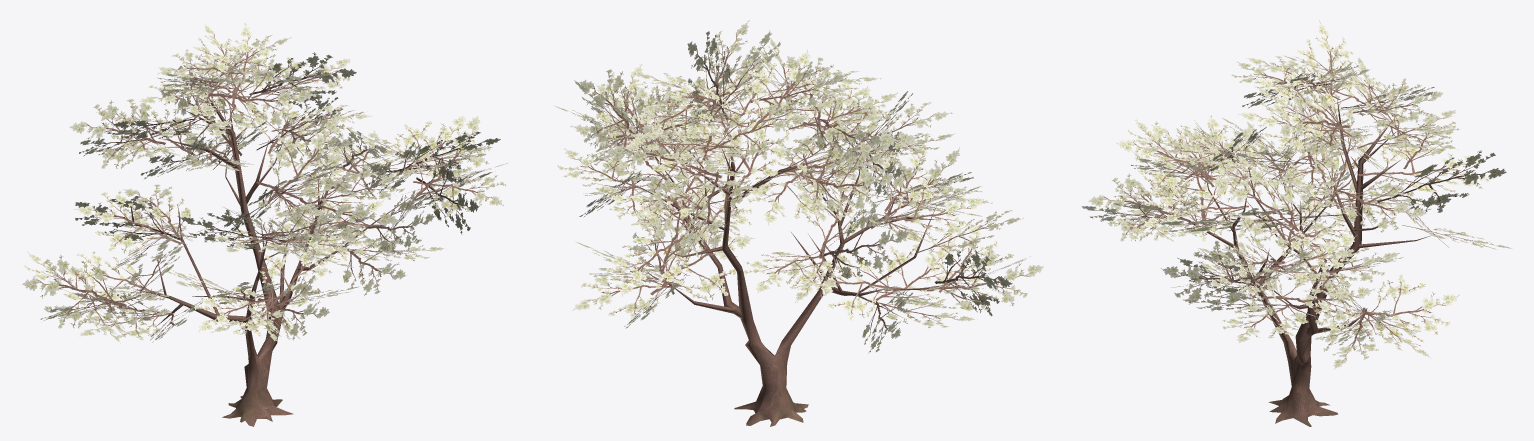
Rendered from shu_yunmeng_04.FBX.
3 renders of one model, left to right at view 1: azimuth 30°, elevation 25°; view 2: azimuth 150°, elevation 25°; view 3: azimuth 270°, elevation 25°, orthographic. The views are drawn at different scales.
Parts seen in each view (by area): view 1: Mesh_0121, Mesh_164, Mesh_0120; view 2: Mesh_0121, Mesh_164, Mesh_0120; view 3: Mesh_0121, Mesh_164, Mesh_0120.
Part boxes in pixels (<box>): Mesh_0121: <box>22,23,507,343</box>; Mesh_164: <box>25,24,505,340</box>; Mesh_0120: <box>99,89,426,426</box>; Mesh_0121: <box>553,20,1043,353</box>; Mesh_164: <box>558,24,1040,348</box>; Mesh_0120: <box>642,137,958,426</box>; Mesh_0121: <box>1081,21,1512,369</box>; Mesh_164: <box>1085,25,1491,368</box>; Mesh_0120: <box>1177,99,1432,426</box>.
Bounding box in the file's own units: 195 × 146 × 161.
